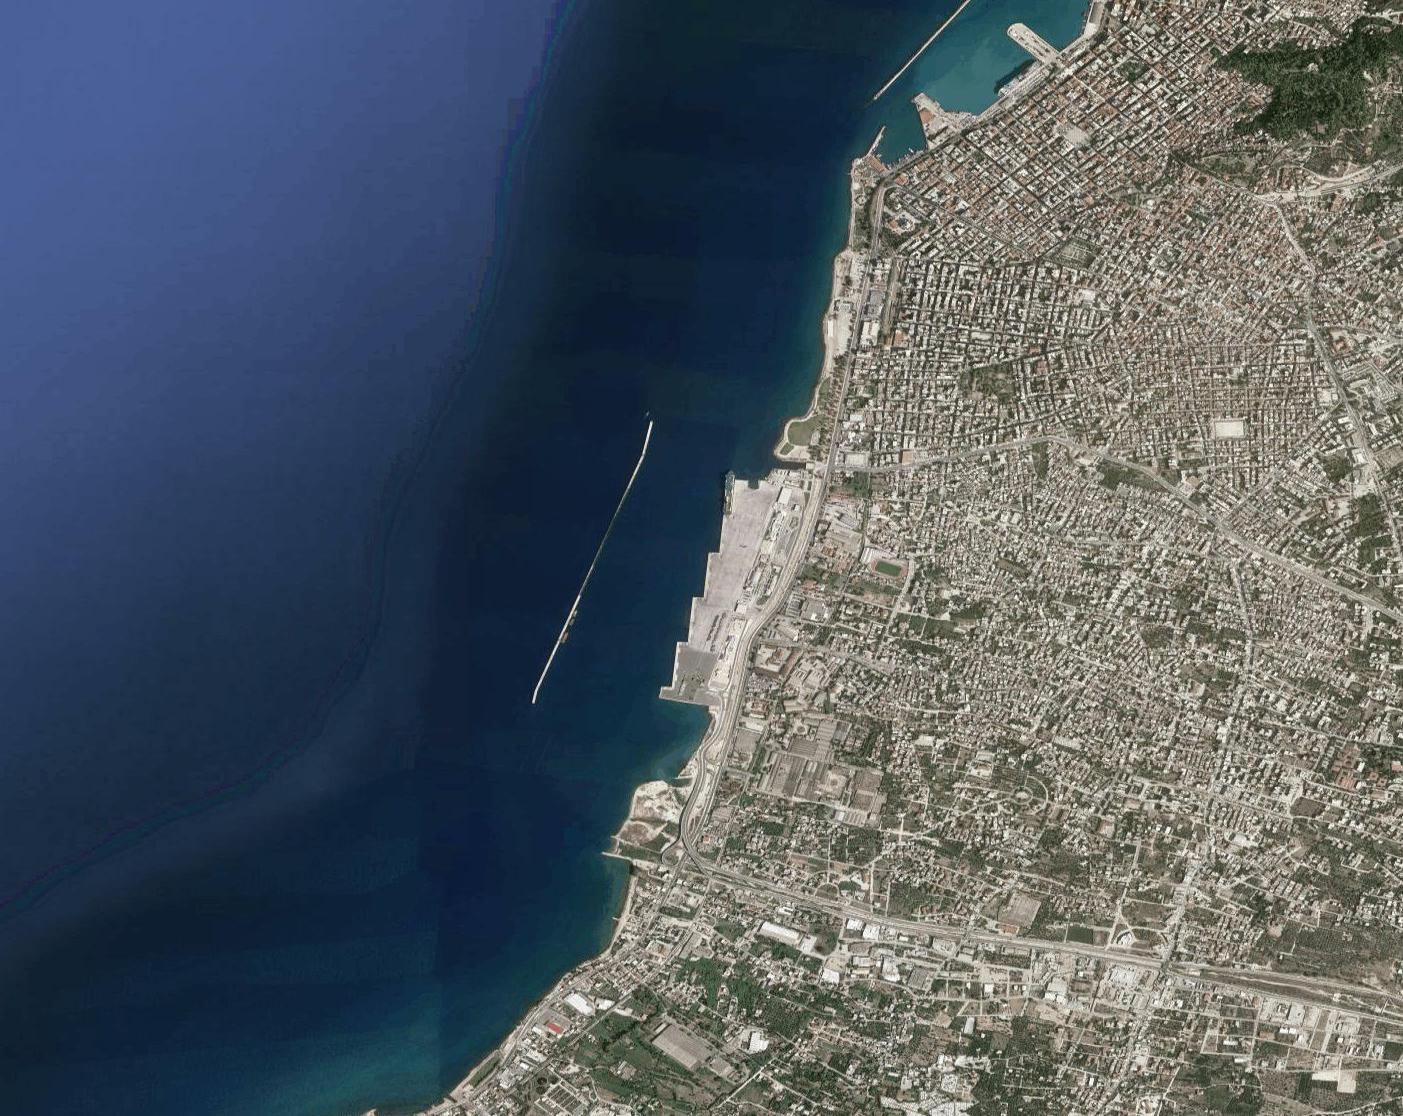harbor: (656, 454, 779, 717)
